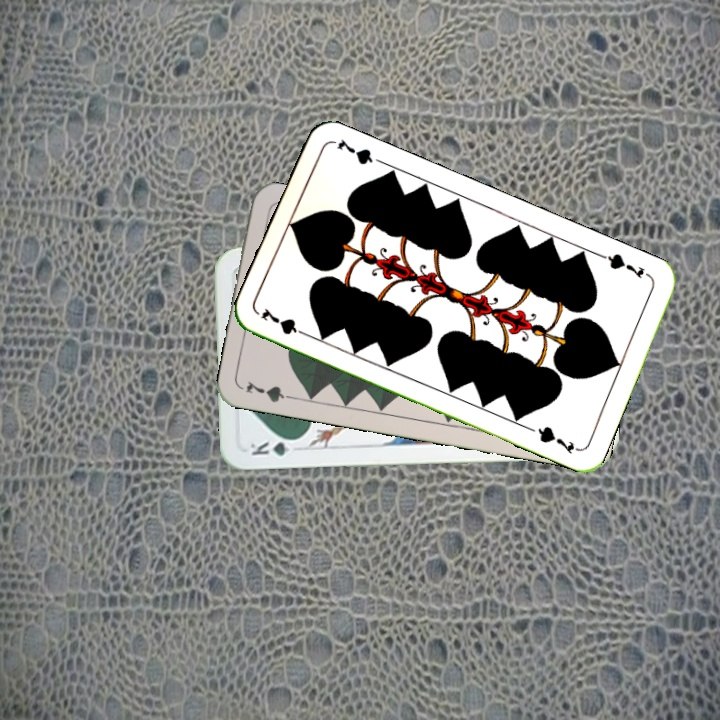G7: (256, 304, 313, 340), (242, 376, 300, 405), (596, 249, 647, 281)
GK: (244, 435, 303, 459)
